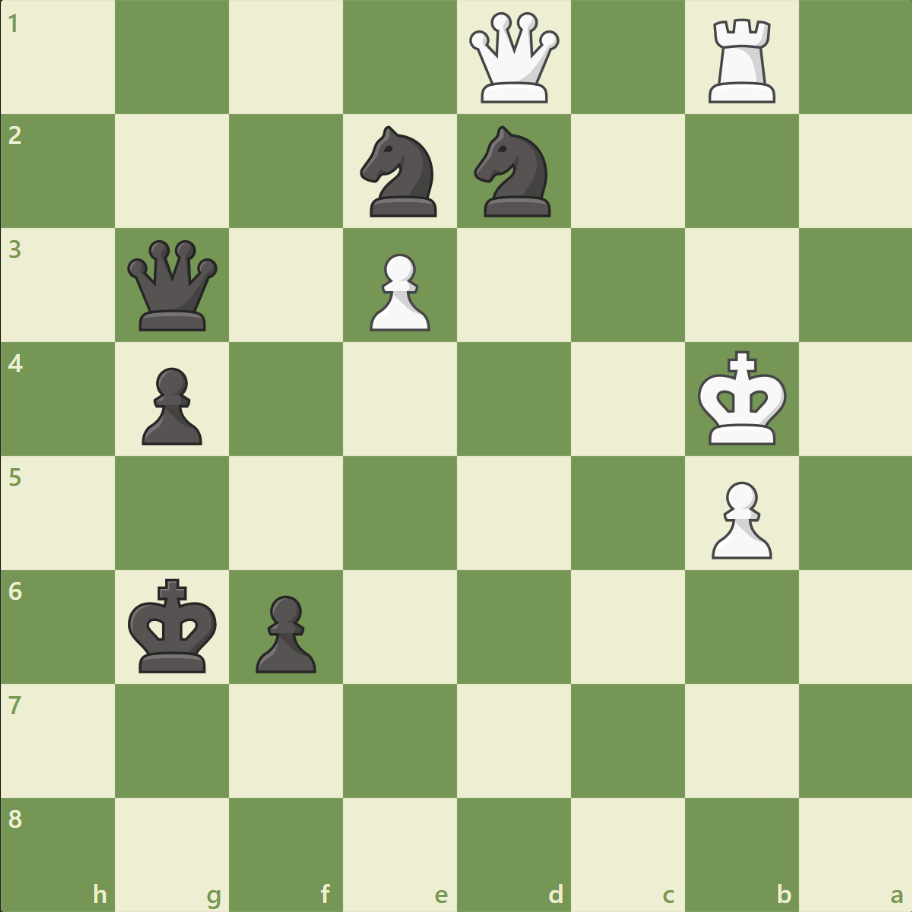K: (692, 344, 792, 452)
P: (701, 473, 776, 564), (361, 246, 435, 337)
Q: (464, 9, 563, 108)
R: (700, 12, 783, 109)
k: (124, 571, 224, 679)
n: (351, 121, 449, 223), (465, 121, 562, 223)
p: (247, 586, 322, 677), (133, 359, 208, 450)
q: (124, 236, 223, 335)
